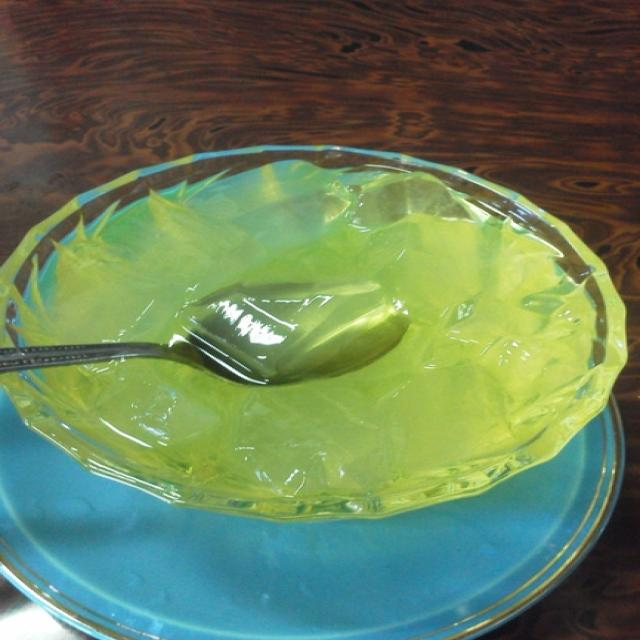蛋糕甜品: (24, 178, 597, 512)
